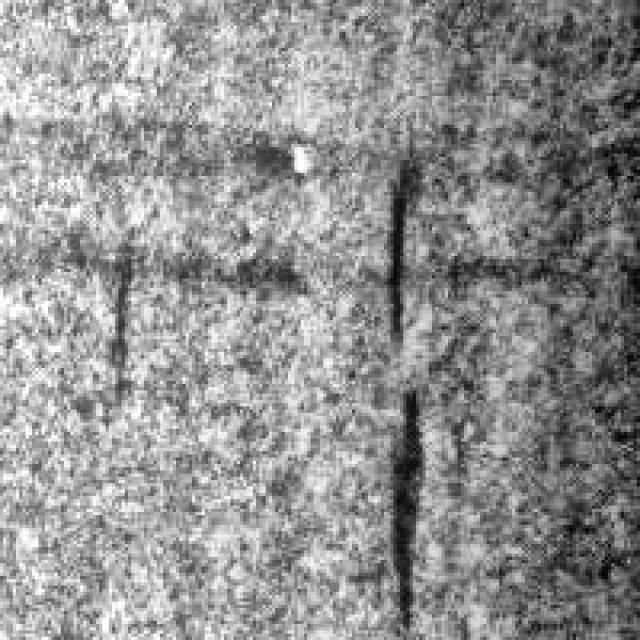Patches: (364, 156, 422, 358)
